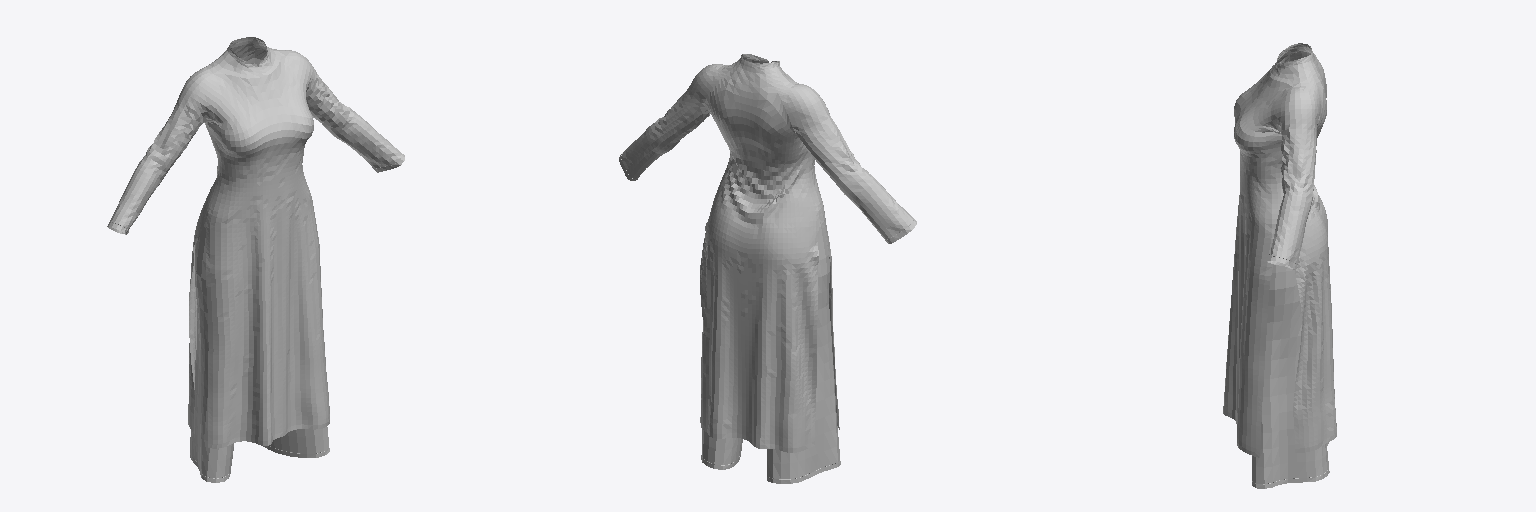
The model's file is aodai.obj.
3 renders of one model, left to right at view 1: azimuth 30°, elevation 25°; view 2: azimuth 150°, elevation 25°; view 3: azimuth 270°, elevation 25°, orthographic.
Visible parts, largest first — view 1: aodai_quad_pd5.retopo.modified.002; view 2: aodai_quad_pd5.retopo.modified.002; view 3: aodai_quad_pd5.retopo.modified.002.
Boxes of the visible parts, <box> form: aodai_quad_pd5.retopo.modified.002: <box>107,37,404,482</box>; aodai_quad_pd5.retopo.modified.002: <box>619,54,916,483</box>; aodai_quad_pd5.retopo.modified.002: <box>1223,43,1336,488</box>.
Size of the model in its own units: 0.9778 by 1.31 by 0.3275.